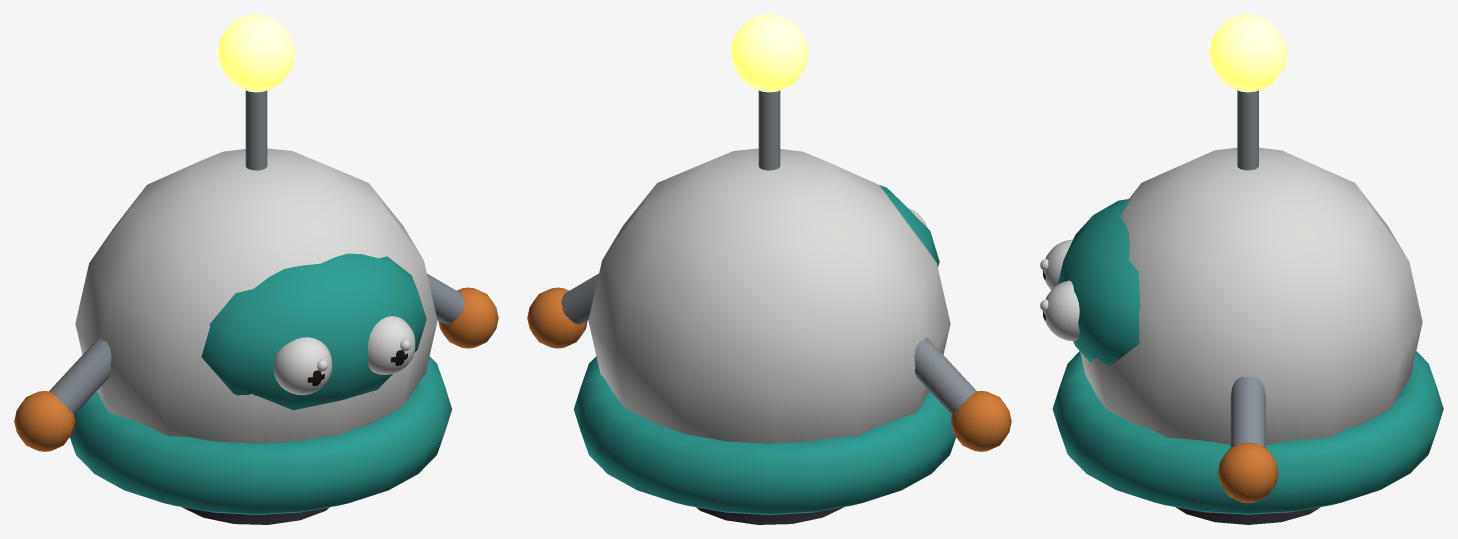
Rendered from helperBot.glb.
3 views of the same model, side by side, from view 1: azimuth 30°, elevation 25°; view 2: azimuth 150°, elevation 25°; view 3: azimuth 270°, elevation 25° (orthographic).
Parts seen in each view (by area): view 1: part_000, part_001; view 2: part_000, part_001; view 3: part_000, part_001.
Part boxes in pixels (x1,y1,x2,y2): part_000: (14, 90, 498, 524); part_001: (217, 14, 295, 92); part_000: (527, 90, 1011, 524); part_001: (730, 14, 808, 92); part_000: (1040, 90, 1443, 524); part_001: (1209, 14, 1287, 92).
Bounding box in the file's own units: 1.26 × 1.19 × 0.9252.
